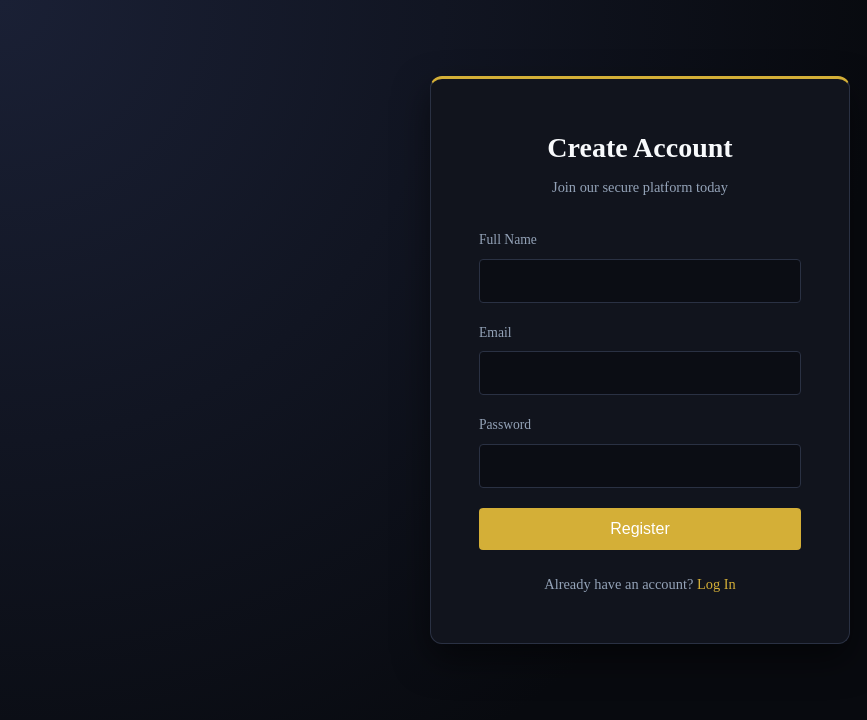
Test: Authentication Pages › Registration Form Validation › validates password strength
Step 1. Type "Test User" into the field labelled "Full Name" → (640, 281), box [479,259,801,303]
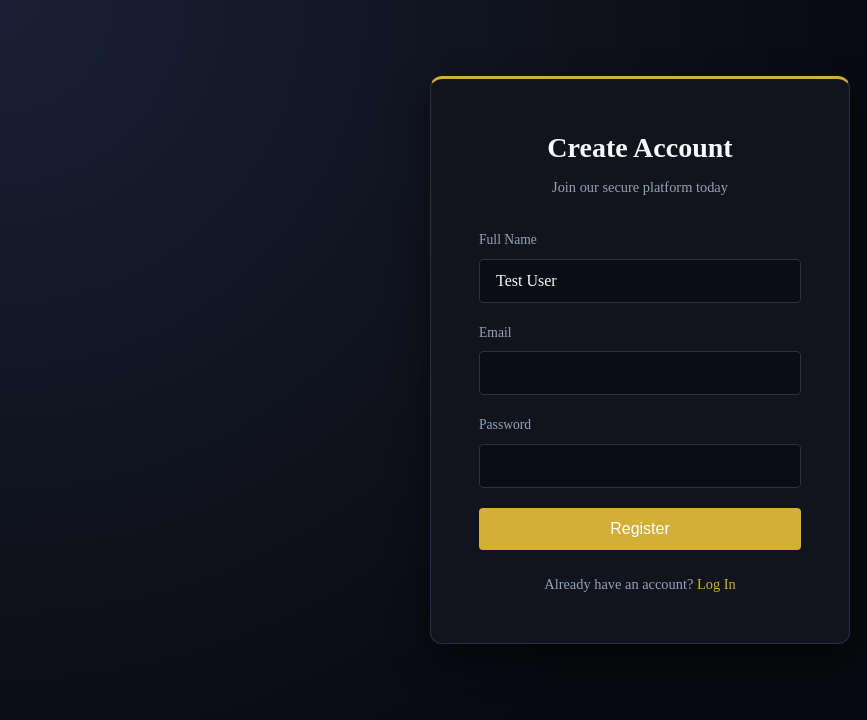
Step 2. Type "test@example.com" into the field labelled "Email" → (640, 373), box [479,351,801,395]
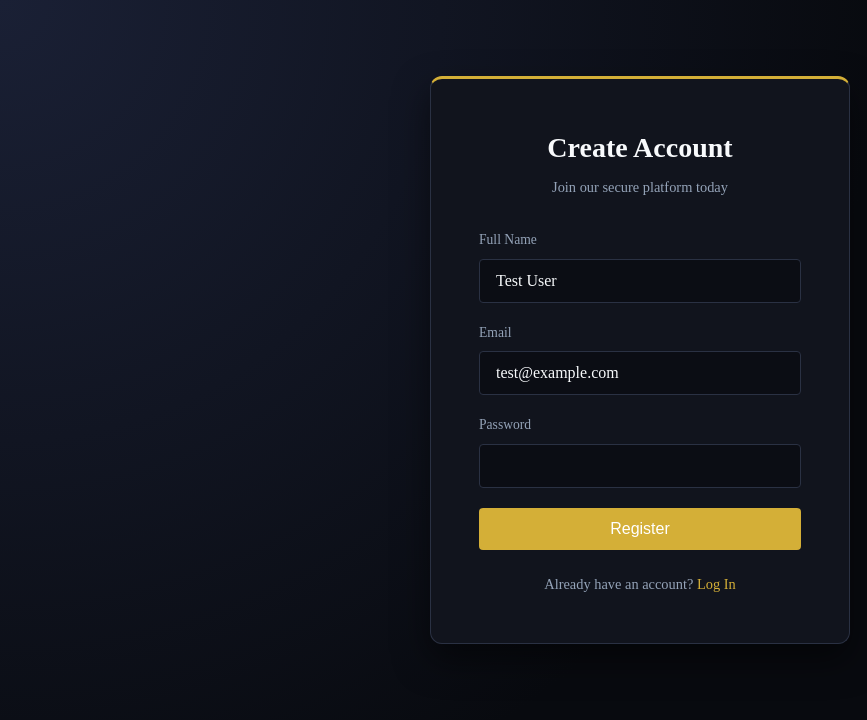
Step 3. Type "weak" into the password field labelled "Password" → (640, 466), box [479,444,801,488]
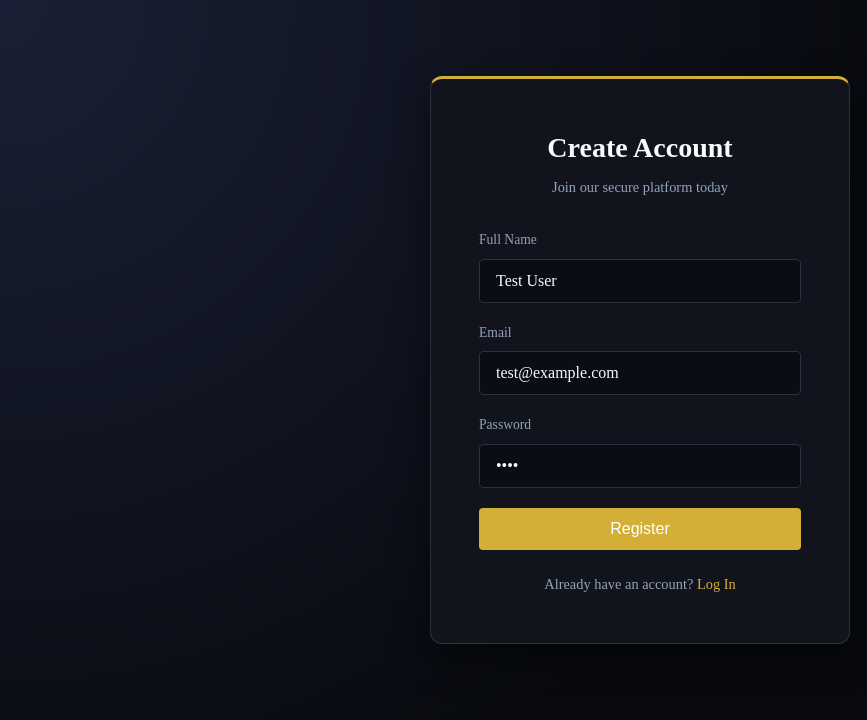
Step 4. Click the button "Register" → click(640, 529), box [479,508,801,550]
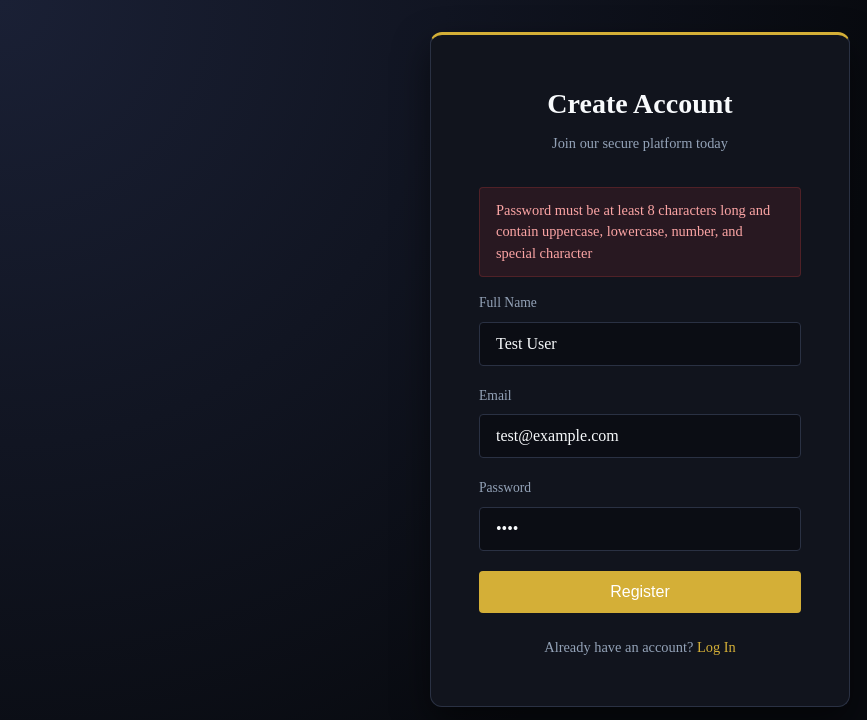
Expected: the text "Password must be at least 8 characters long" is shown, [496,202,770,261]
